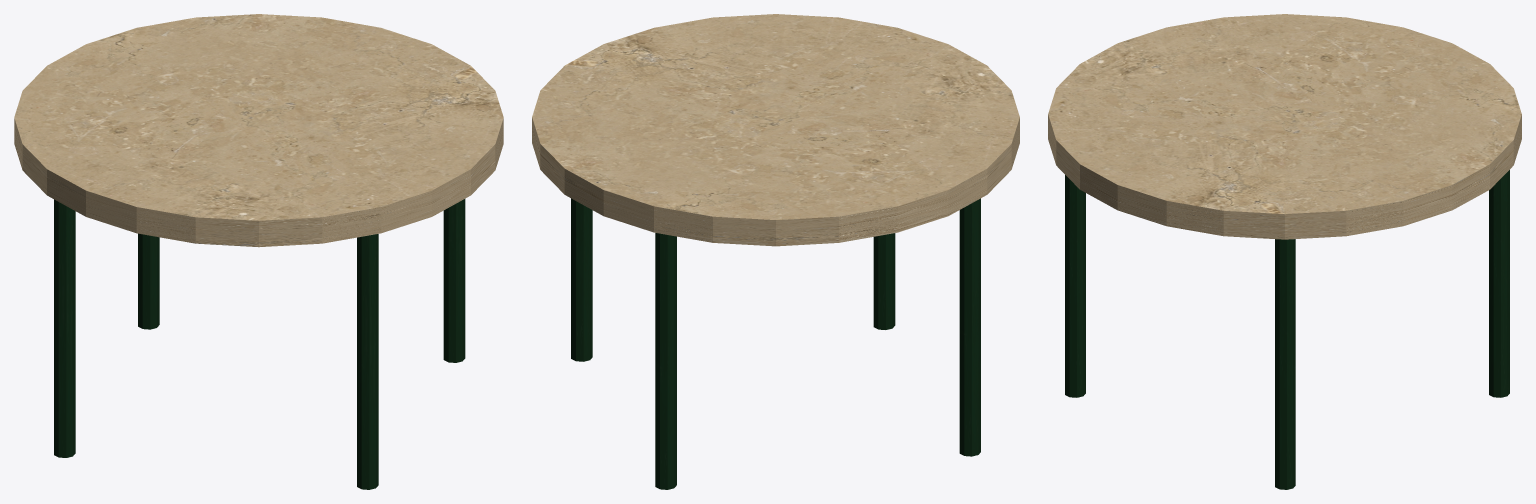
The model's file is table_cantine.fbx.
The picture shows the model from 3 angles, left to right: view 1: azimuth 30°, elevation 25°; view 2: azimuth 150°, elevation 25°; view 3: azimuth 270°, elevation 25°; orthographic projection. The views are drawn at different scales.
Visible parts, largest first — view 1: Table Cantine; view 2: Table Cantine; view 3: Table Cantine.
Part boxes in pixels (<box>): Table Cantine: <box>14,14,503,489</box>; Table Cantine: <box>532,14,1019,489</box>; Table Cantine: <box>1048,14,1521,489</box>.
Size of the model in its own units: 438 by 285 by 438.
Materials: 2 (2 with a texture image).
